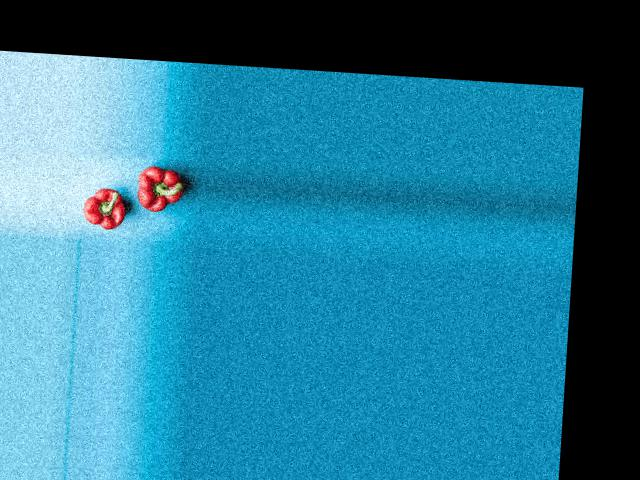bell_pepper: (126, 165, 190, 219)
